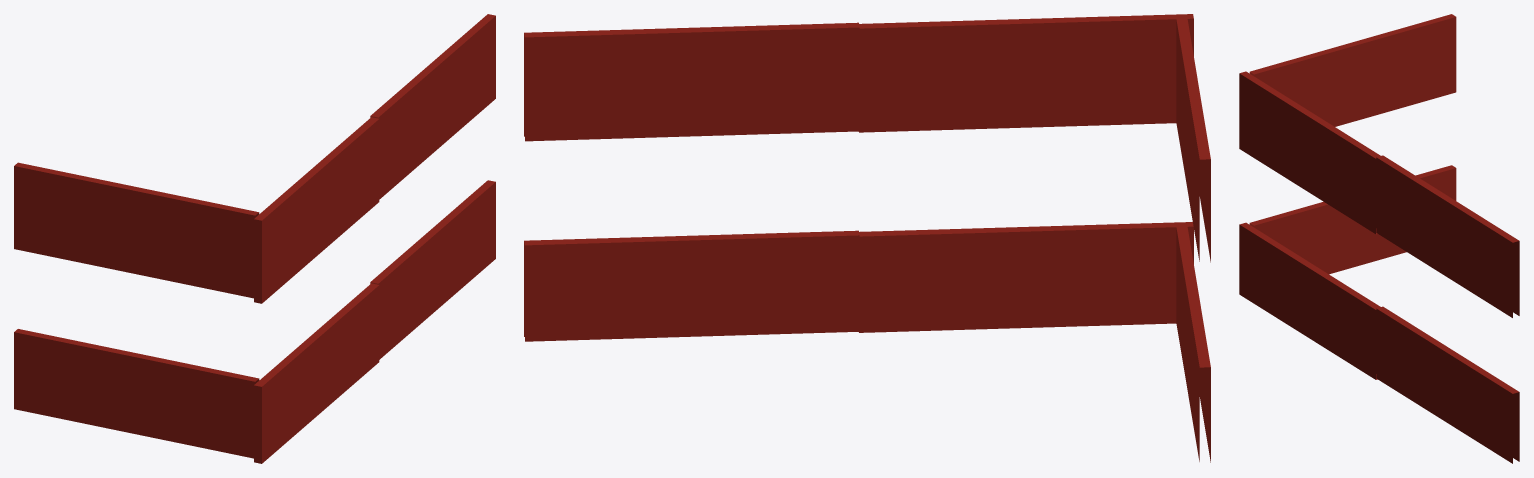
The model's file is bloc mur fenetre angle.fbx.
3 views of the same model, side by side, from view 1: azimuth 30°, elevation 25°; view 2: azimuth 150°, elevation 25°; view 3: azimuth 270°, elevation 25° (orthographic). The views are drawn at different scales.
Parts seen in each view (by area): view 1: Steve1; view 2: Steve1; view 3: Steve1.
Part boxes in pixels (x1,y1,x2,y2): Steve1: (14, 14, 495, 463); Steve1: (524, 14, 1210, 462); Steve1: (1239, 14, 1519, 463).
Bounding box in the file's own units: 133 × 60.32 × 68.88.
